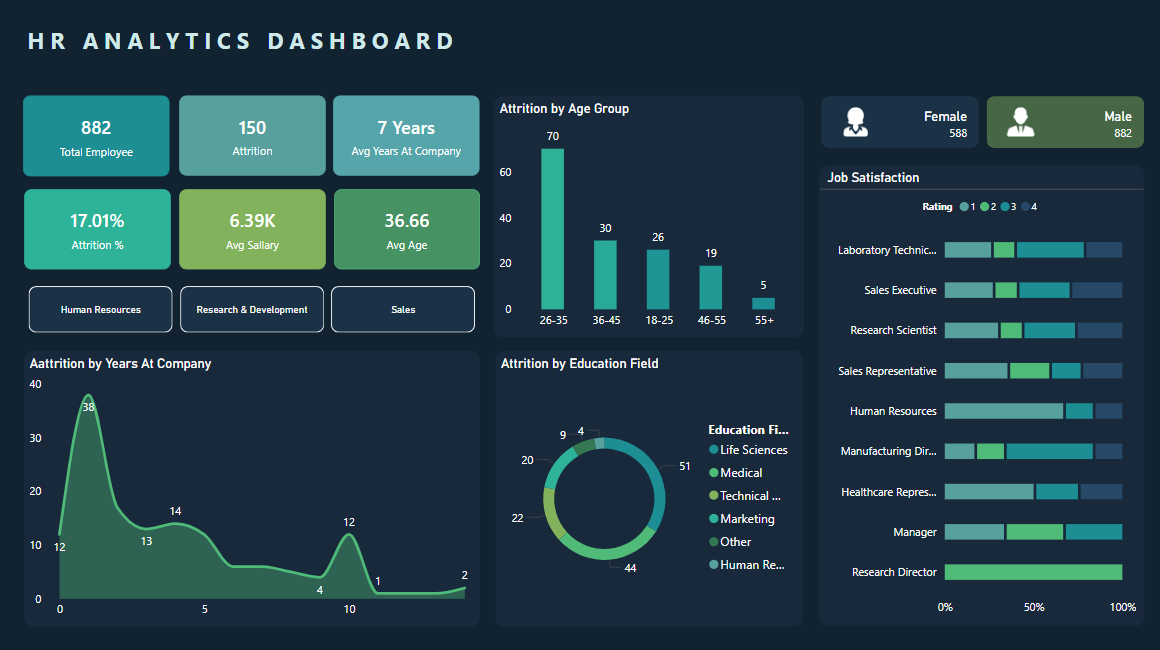

This screenshot's page, from the dashboard's own definition file:
{"tool":"powerbi","page":{"name":"Dark","canvas":[1280,720],"ordinal":0},"visuals":[{"type":"card","fields":{"Values":["Measure.Employee_count"]},"box":[27.8,106.7,161.1,88.9],"z":0},{"type":"card","fields":{"Values":["Measure.employee_attrition"]},"box":[199.4,107,161,88],"z":1000},{"type":"card","fields":{"Values":["Measure.Years_with_text"]},"box":[367.7,107,161,88],"z":2000},{"type":"card","fields":{"Values":["Measure.attrition%"]},"box":[28.9,210,161.1,87.8],"z":3000},{"type":"card","fields":{"Values":["Measure.avg_salary"]},"box":[198.9,210,161.1,87.8],"z":4000},{"type":"card","fields":{"Values":["Measure.Avg_Age"]},"box":[368.9,210,160,87.8],"z":5000},{"type":"areaChart","title":"Aattrition by Years At Company","fields":{"Y":["Measure.employee_attrition"],"Category":["HR_Analytics.YearsAtCompany"]},"box":[28.9,386.7,500,303.3],"z":6000},{"type":"donutChart","title":"Attrition by Education Field","fields":{"Y":["Measure.employee_attrition"],"Category":["HR_Analytics.EducationField"]},"box":[545.6,386.7,337.8,303.3],"z":7000},{"type":"columnChart","title":"Attrition by Age Group","fields":{"Category":["HR_Analytics.AgeGroup"],"Y":["Measure.employee_attrition"]},"box":[544.4,106.7,340,265.6],"z":8000},{"type":"hundredPercentStackedBarChart","title":"Job Satisfaction","fields":{"Y":["Measure.employee_attrition"],"Category":["HR_Analytics.JobRole"],"Series":["HR_Analytics.JobSatisfaction"]},"box":[901.6,183.8,357,505.8],"z":9000},{"type":"advancedSlicerVisual","fields":{"Values":["HR_Analytics.Gender"]},"box":[898.6,102.9,365,67.1],"z":10000},{"type":"image","box":[921.4,115.7,41.4,41.4],"z":11000},{"type":"image","box":[1101.4,115.7,41.4,41.4],"z":12000},{"type":"advancedSlicerVisual","fields":{"Values":["HR_Analytics.Department"]},"box":[28.9,311.1,500,61.1],"z":13000},{"type":"textbox","box":[27.8,26.7,555.6,51.1],"z":14000}]}

Visuals, with their boxes in screenshot pixels (x1, y1, x2, y2), scaled from the page's 1280x720 canvas onto the 1160x650 screenshot:
card - Measure.Employee_count: region(25, 96, 171, 177)
card - Measure.employee_attrition: region(181, 97, 327, 176)
card - Measure.Years_with_text: region(333, 97, 479, 176)
card - Measure.attrition%: region(26, 190, 172, 269)
card - Measure.avg_salary: region(180, 190, 326, 269)
card - Measure.Avg_Age: region(334, 190, 479, 269)
"Aattrition by Years At Company" areaChart: region(26, 349, 479, 623)
"Attrition by Education Field" donutChart: region(494, 349, 801, 623)
"Attrition by Age Group" columnChart: region(493, 96, 801, 336)
"Job Satisfaction" hundredPercentStackedBarChart: region(817, 166, 1141, 623)
advancedSlicerVisual - HR_Analytics.Gender: region(814, 93, 1145, 153)
image: region(835, 104, 873, 142)
image: region(998, 104, 1036, 142)
advancedSlicerVisual - HR_Analytics.Department: region(26, 281, 479, 336)
textbox: region(25, 24, 529, 70)
